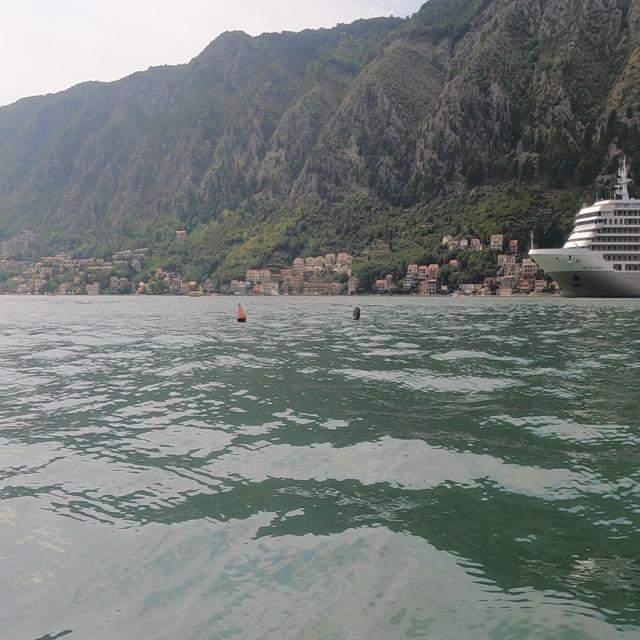buoy: (232, 297, 255, 330), (348, 298, 366, 330)
